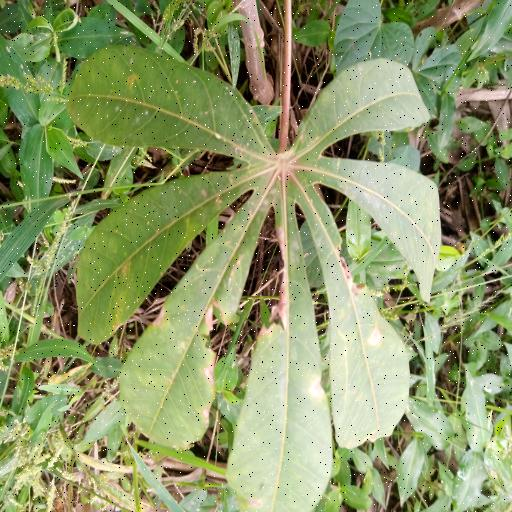Cassava_Mosaic: (62, 42, 444, 512)
